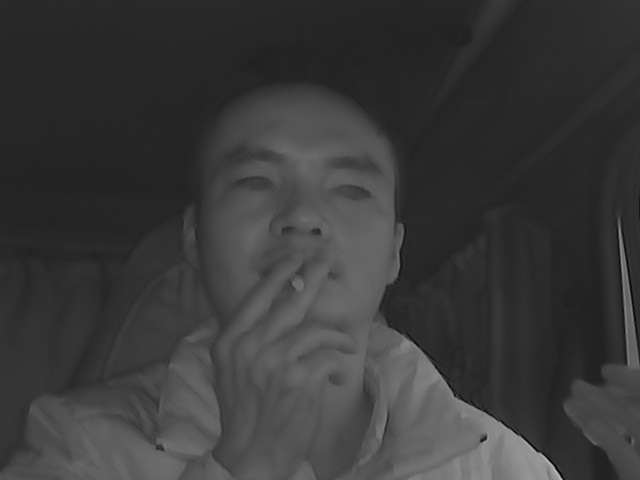hand: (226, 248, 356, 403)
